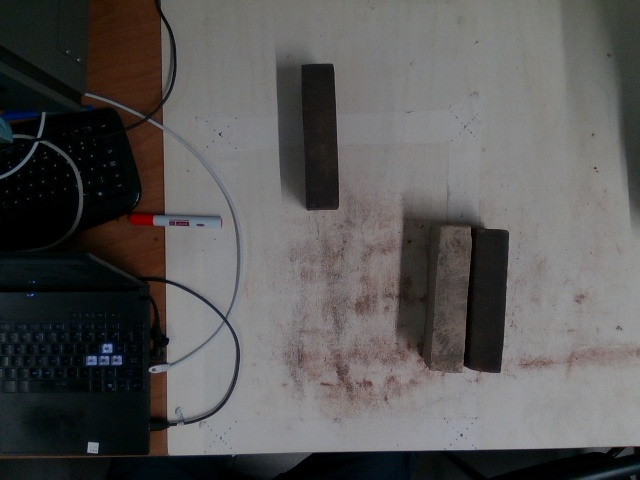brick-side: (471, 226, 511, 369), (432, 228, 471, 371), (304, 64, 337, 209)
